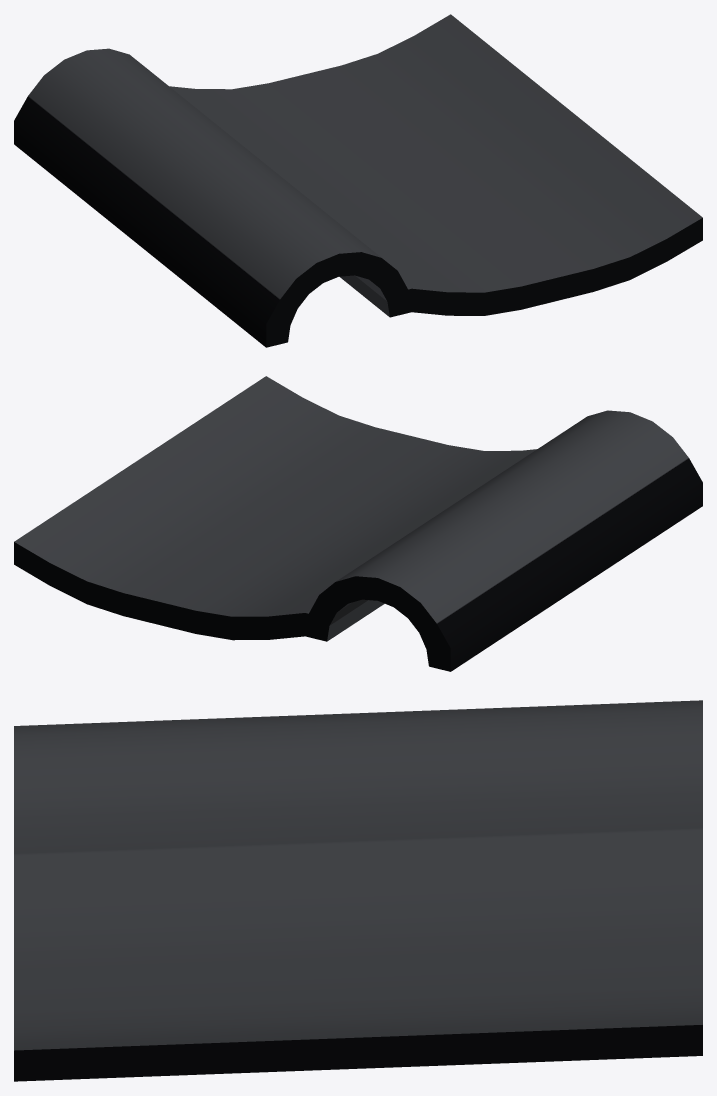
The model's file is Roof.fbx.
3 views of the same model, one above another, from view 1: azimuth 30°, elevation 25°; view 2: azimuth 150°, elevation 25°; view 3: azimuth 270°, elevation 25° (orthographic). The views are drawn at different scales.
Visible parts, largest first — view 1: Roof; view 2: Roof; view 3: Roof.
Boxes of the visible parts, x1,y1,x2,y2 form: Roof: [14, 14, 702, 347]; Roof: [14, 376, 702, 671]; Roof: [14, 700, 702, 1081].
Bounding box in the file's own units: 150 × 39.15 × 150.
